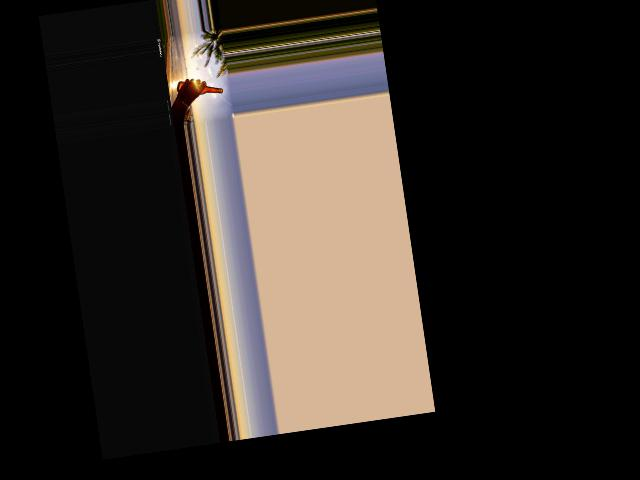beer: (175, 76, 222, 100)
